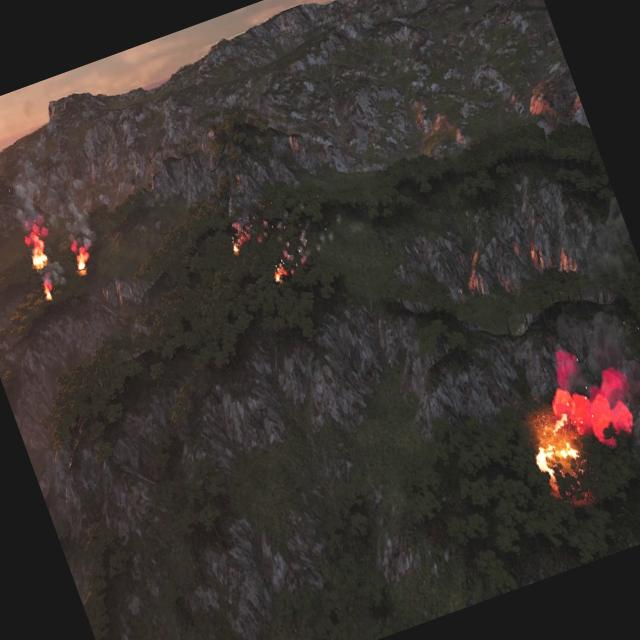fire: (503, 341, 640, 495), (18, 220, 58, 272), (67, 240, 96, 278), (526, 91, 552, 120), (272, 266, 286, 284), (42, 286, 54, 302), (232, 242, 242, 256)
smoke: (272, 218, 342, 280), (1, 162, 51, 232), (62, 198, 98, 251), (230, 208, 274, 248)
